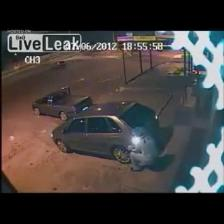person: (129, 136, 158, 171)
